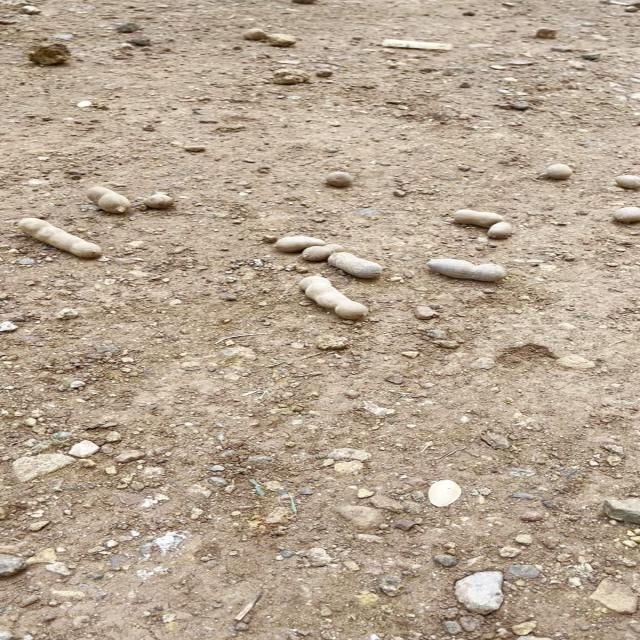tamarind: (12, 216, 112, 260), (300, 275, 370, 319), (417, 253, 515, 281), (334, 253, 390, 279), (87, 184, 133, 214), (448, 206, 503, 224), (263, 236, 318, 251), (538, 164, 580, 178), (328, 171, 356, 190), (606, 172, 639, 188), (612, 204, 639, 220)
